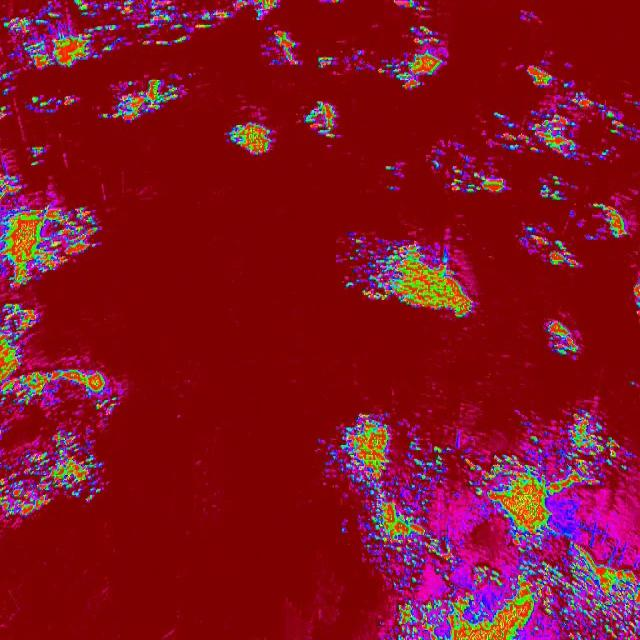fire: (327, 404, 640, 640), (434, 93, 640, 207), (0, 365, 123, 523), (0, 170, 101, 301), (342, 228, 474, 328), (0, 0, 146, 64), (103, 73, 187, 125), (391, 29, 454, 91), (522, 216, 585, 275), (146, 0, 215, 46), (0, 300, 38, 370), (258, 22, 302, 72), (542, 310, 582, 364), (298, 98, 342, 146), (226, 119, 274, 159), (594, 193, 631, 241), (522, 59, 565, 93), (216, 0, 279, 22)
